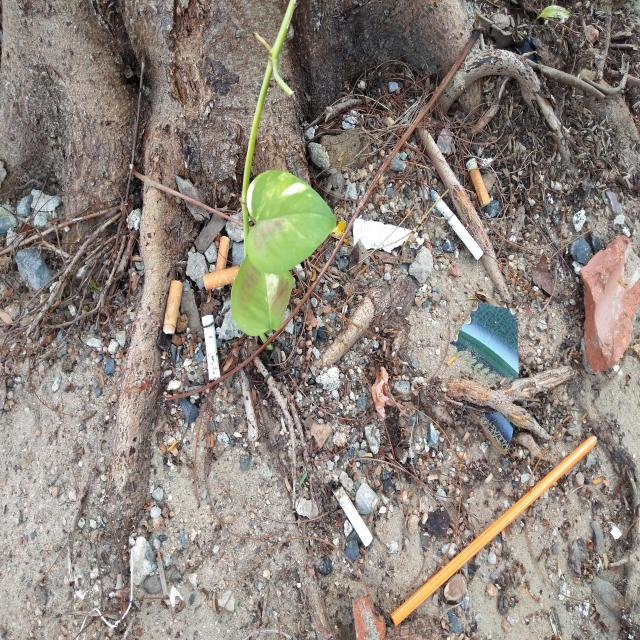litter: (245, 173, 518, 376)
